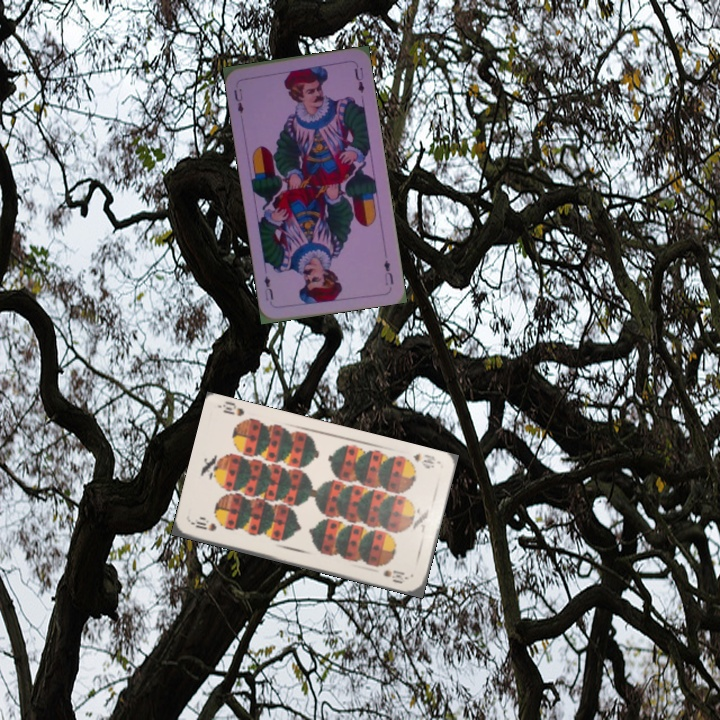EU: (380, 256, 396, 288), (230, 85, 246, 116)
S10: (409, 449, 438, 471), (188, 517, 219, 534)
